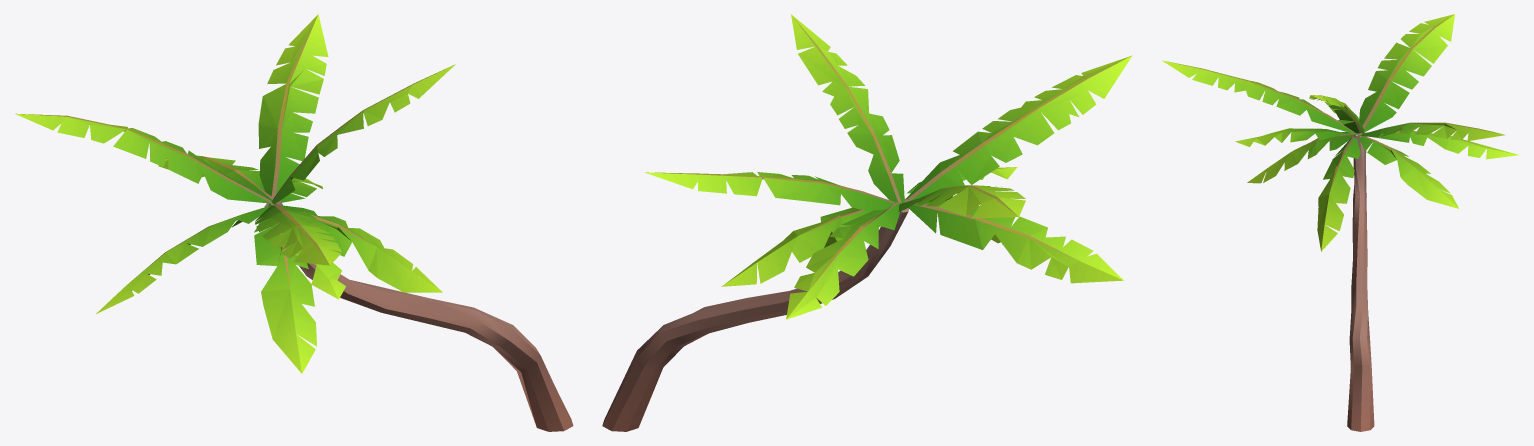
3 renders of one model, left to right at view 1: azimuth 30°, elevation 25°; view 2: azimuth 150°, elevation 25°; view 3: azimuth 270°, elevation 25°, orthographic. The views are drawn at different scales.
Parts seen in each view (by area): view 1: Palm3_leaning; view 2: Palm3_leaning; view 3: Palm3_leaning.
Part boxes in pixels (box(x1,y1,x2,y2)): Palm3_leaning: box(15, 14, 573, 431); Palm3_leaning: box(602, 14, 1132, 431); Palm3_leaning: box(1162, 14, 1519, 431).
Size of the model in its own units: 14.86 by 11.91 by 13.49.
1 material, 1 textured.
